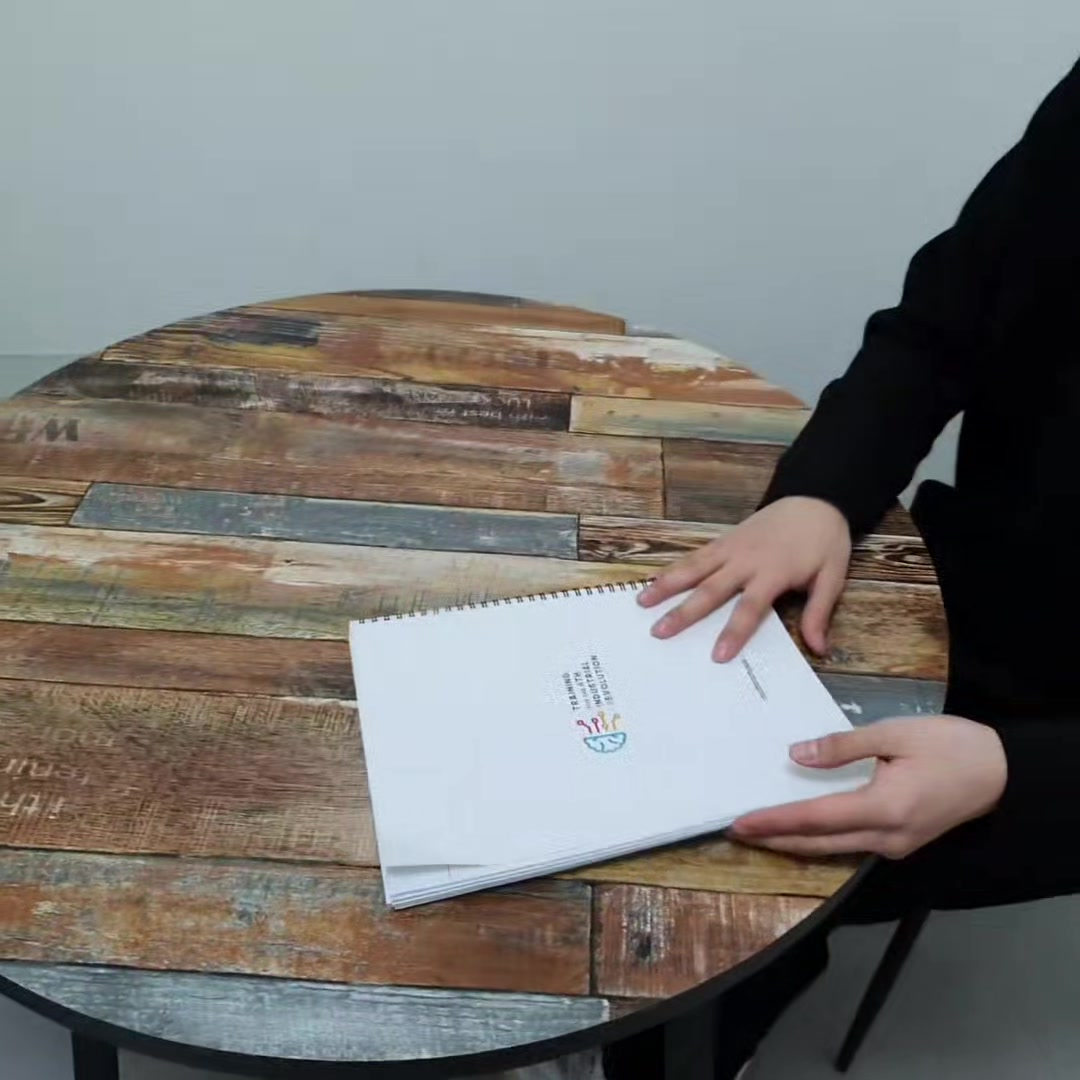book: (340, 543, 889, 907)
